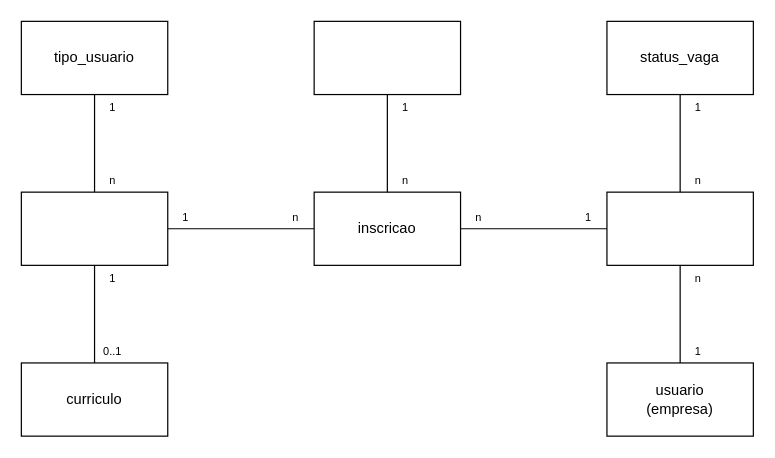
This 775x458 diagram has some shape labels left out. The shapes that lost their labels are listed below. From the top down, each one's centre as x and y in pixels, then its label:
the point at 387,57: status_inscricao
the point at 94,228: usuario (candidato)
the point at 679,228: vaga
